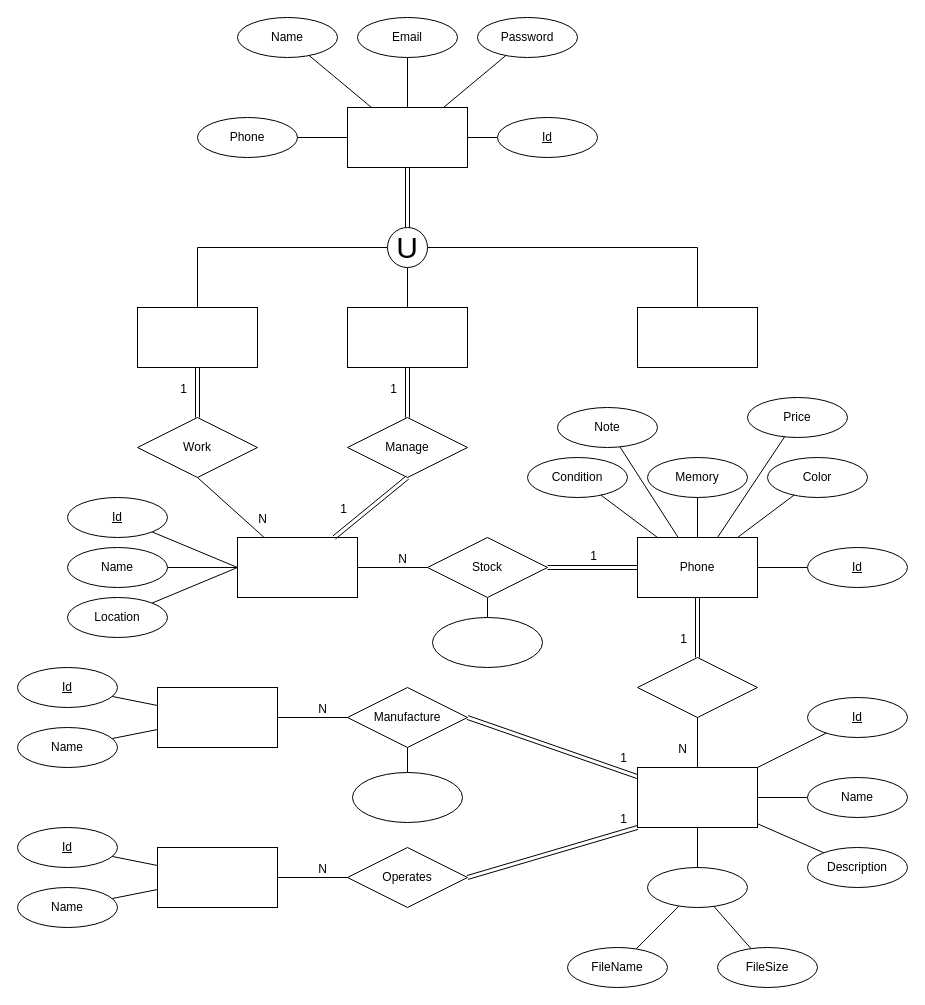
The diagram is 925 pixels wide and 1005 high, and some of its shapes have lost their labels. The centre of each missing label's shape, as x and y in pixels:
"Admin" goes at (697,337).
"Brand" goes at (217,717).
"DateAdded" goes at (487,642).
"Employee" goes at (197,337).
"Has" goes at (697,687).
"Manager" goes at (407,337).
"Manufacture Year" goes at (407,797).
"Model" goes at (697,797).
"OS" goes at (217,877).
"Picture" goes at (697,887).
"Store" goes at (297,567).
"User" goes at (407,137).
